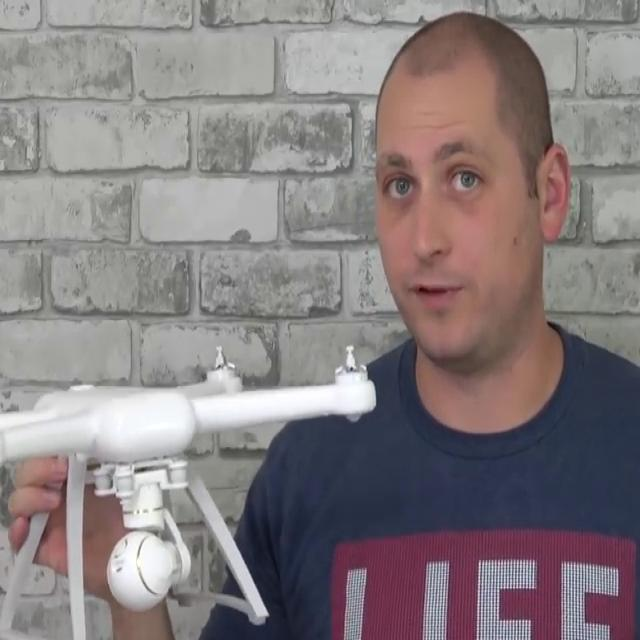drone: (0, 341, 395, 482)
